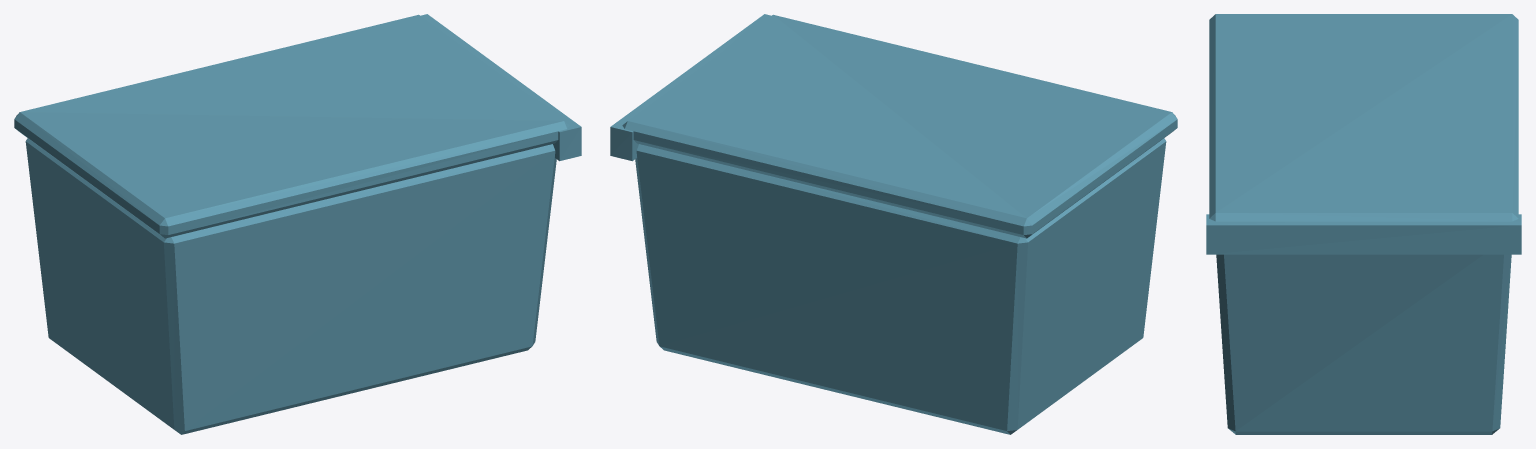
Rendered from storage-bin-00.glb.
3 renders of one model, left to right at view 1: azimuth 30°, elevation 25°; view 2: azimuth 150°, elevation 25°; view 3: azimuth 270°, elevation 25°, orthographic. The views are drawn at different scales.
Visible parts, largest first — view 1: storage_bin_00; view 2: storage_bin_00; view 3: storage_bin_00.
Boxes of the visible parts, x1,y1,x2,y2 form: storage_bin_00: (14,14,581,434); storage_bin_00: (610,14,1177,434); storage_bin_00: (1206,14,1521,434).
Bounding box in the file's own units: 0.755 × 0.3979 × 0.4831.
